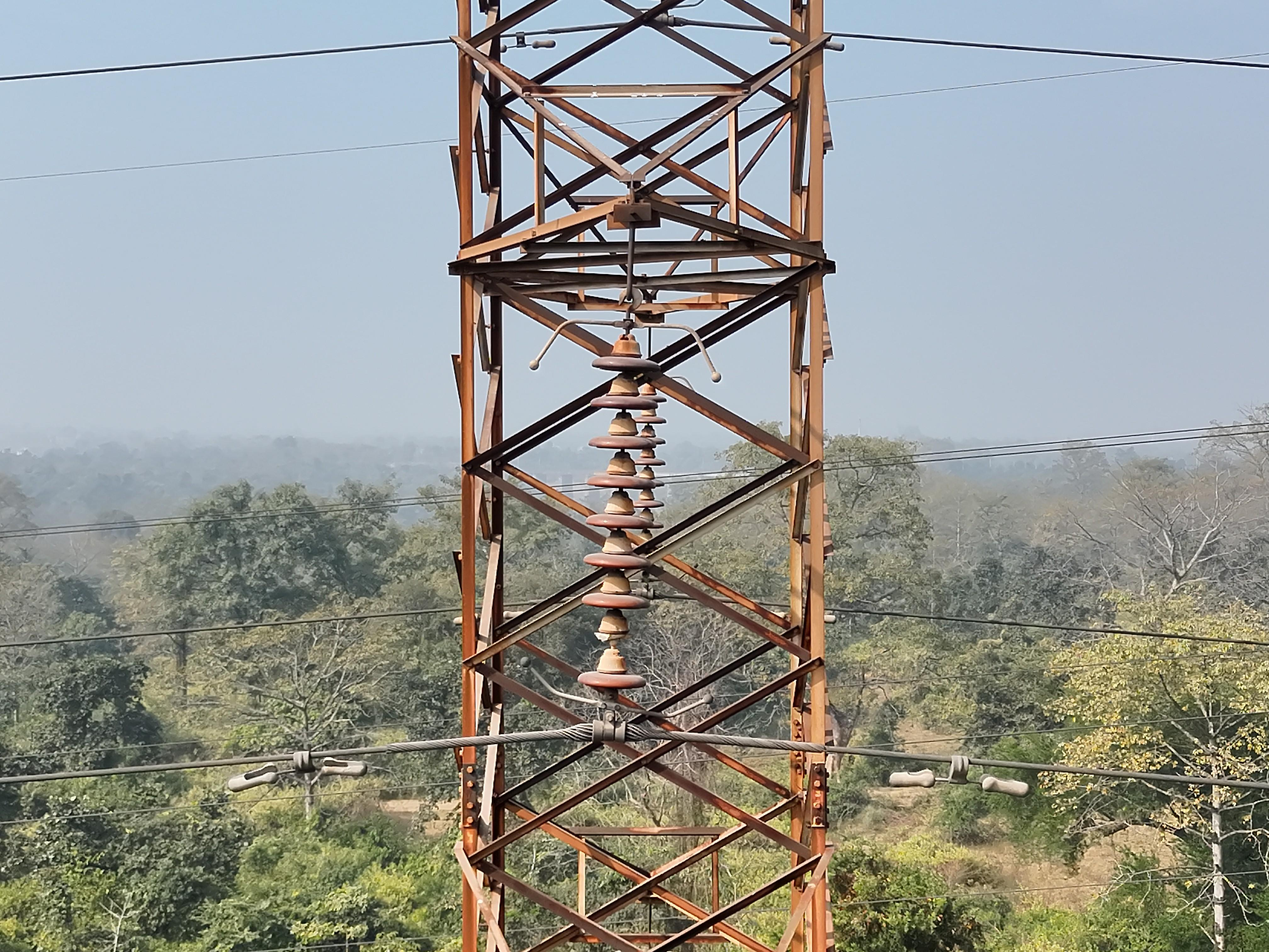broken_insulator: (578, 616, 652, 661)
